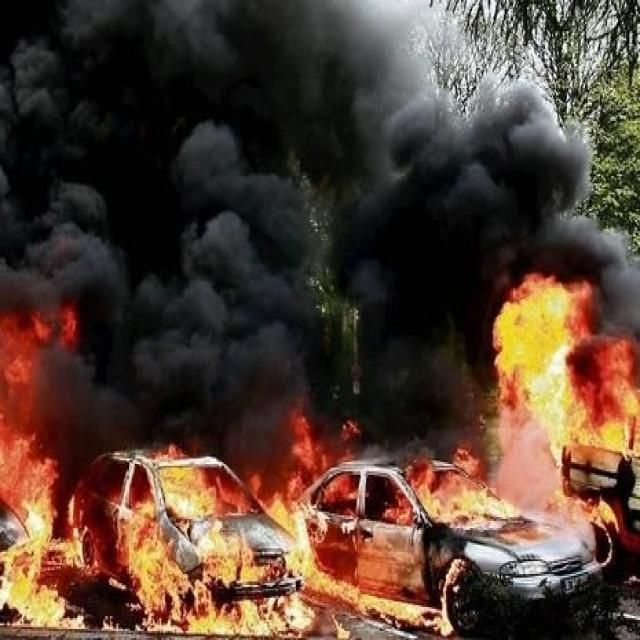Fire: (1, 271, 640, 640)
Smoke: (1, 2, 640, 552)
